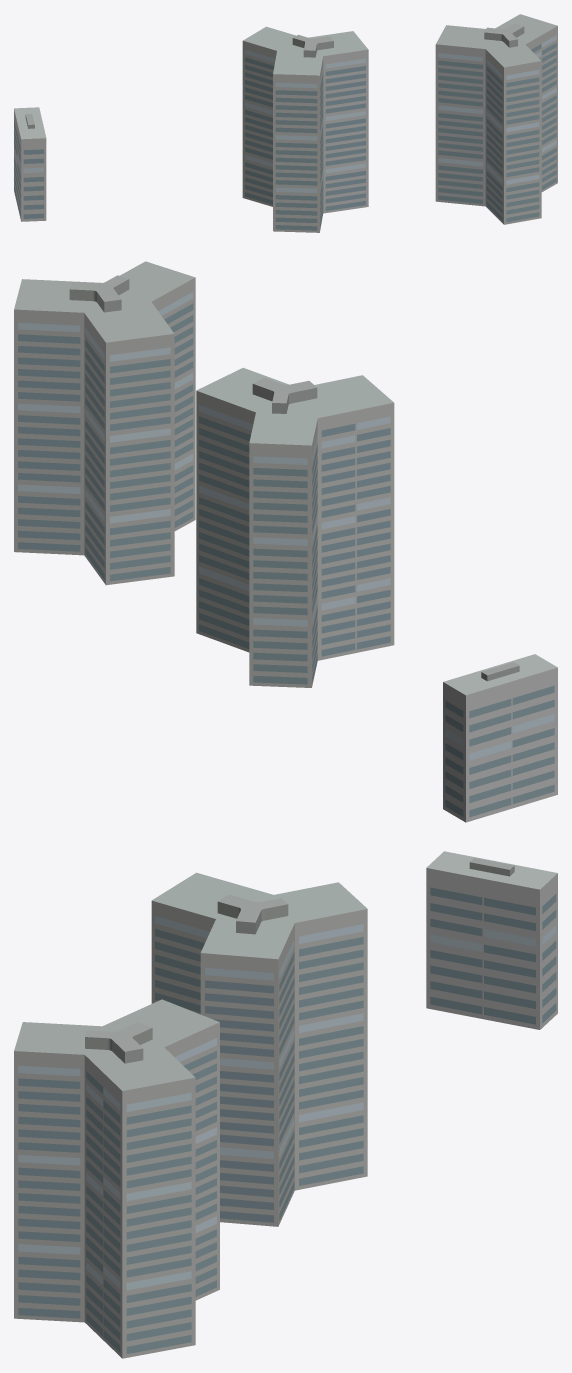
File: apt-a14375303.glb
The picture shows the model from 3 angles, top to bottom: view 1: azimuth 30°, elevation 25°; view 2: azimuth 150°, elevation 25°; view 3: azimuth 270°, elevation 25°; orthographic projection. The views are drawn at different scales.
Visible parts, largest first — view 1: apt-a14375303; view 2: apt-a14375303; view 3: apt-a14375303.
Boxes of the visible parts, <box> form: apt-a14375303: <box>14,14,557,232</box>; apt-a14375303: <box>14,261,557,822</box>; apt-a14375303: <box>14,851,557,1358</box>.
Size of the model in its own units: 161 by 57 by 101.
